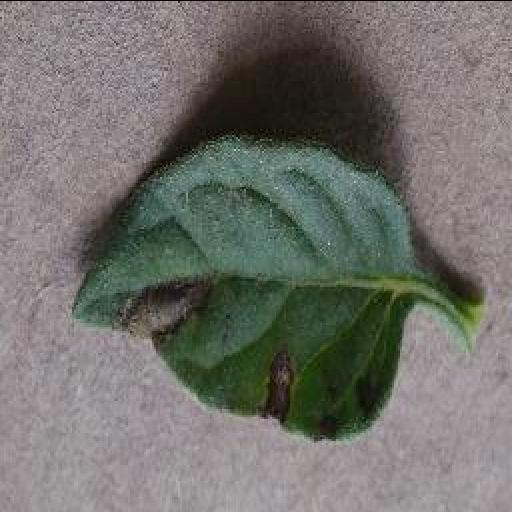Early Blight: (69, 126, 415, 438)
